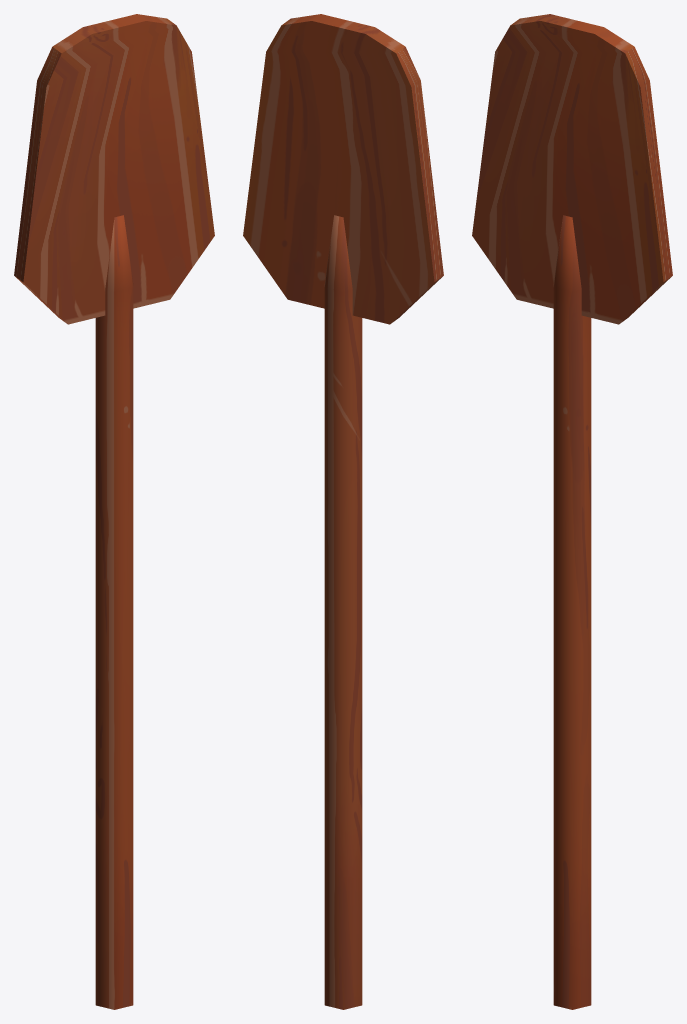
The model's file is Paddle.fbx.
3 renders of one model, left to right at view 1: azimuth 30°, elevation 25°; view 2: azimuth 150°, elevation 25°; view 3: azimuth 330°, elevation 25°, orthographic.
Parts seen in each view (by area): view 1: pCylinder12; view 2: pCylinder12; view 3: pCylinder12.
Boxes of the visible parts, <box> form: pCylinder12: <box>14,14,214,1009</box>; pCylinder12: <box>243,14,443,1009</box>; pCylinder12: <box>472,14,672,1009</box>.
Size of the model in its own units: 2.28 by 11.12 by 0.3857.
